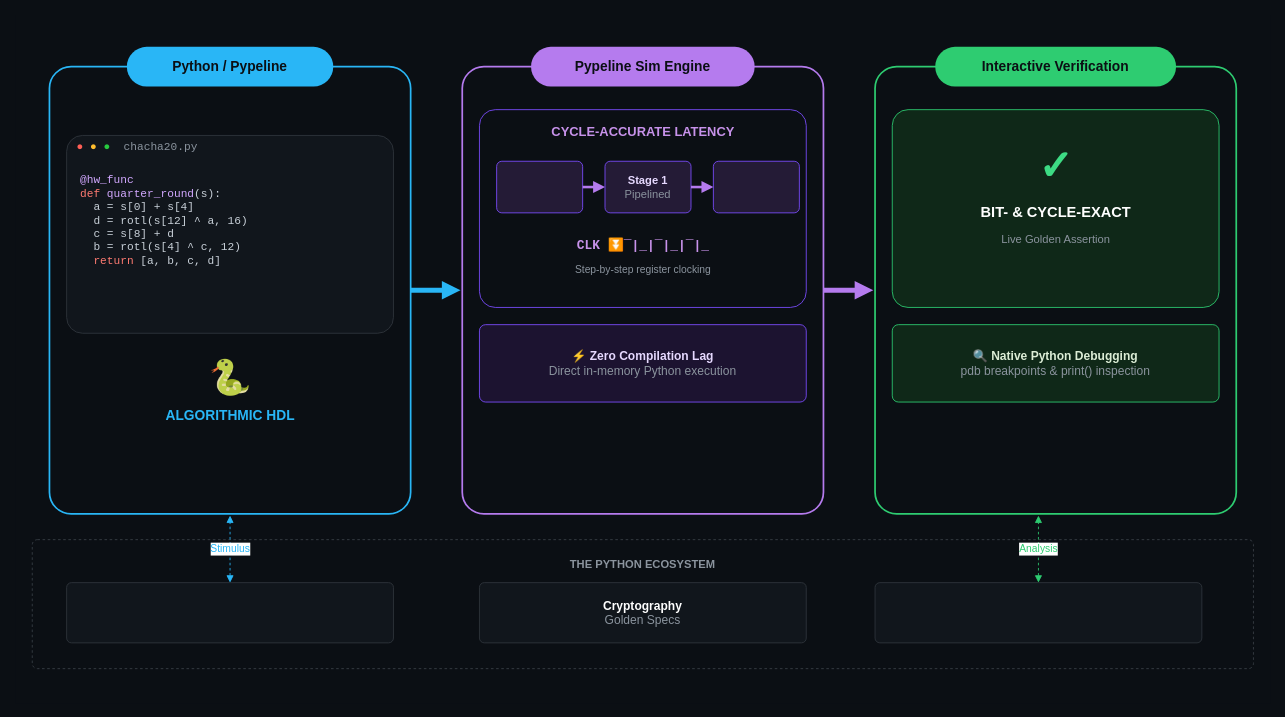
The diagram is 1285 pixels wide and 717 high, and some of its shapes have lost their labels. The centre of each missing label's shape, as x and y in pixels:
Matplotlib Wave Visualizer: the point at 1038,612
NumPy / SciPy Test Vectors: the point at 229,612
Stage 0 Reg D→Q: the point at 539,186
Stage N Output: the point at 756,186
